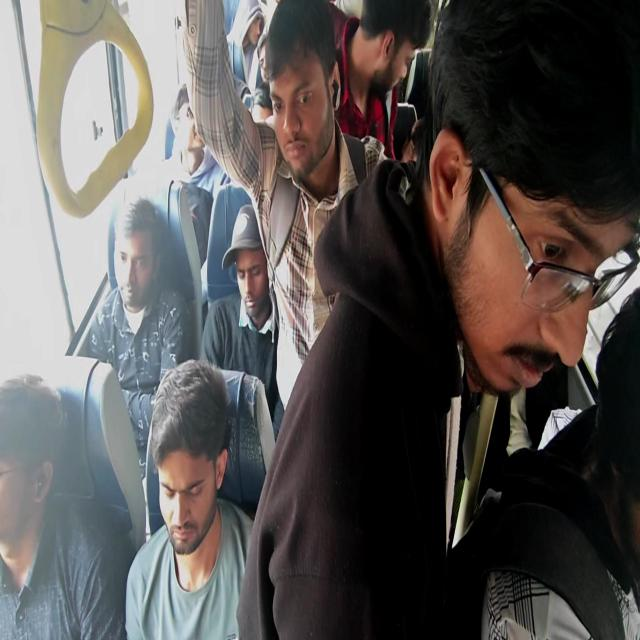person: (432, 70, 570, 421), (0, 403, 98, 606), (595, 299, 640, 562), (152, 369, 212, 516), (272, 65, 342, 189), (213, 223, 279, 324), (353, 7, 417, 106), (120, 198, 162, 310), (175, 85, 209, 160), (250, 51, 292, 105), (238, 8, 275, 60), (242, 89, 271, 135)
